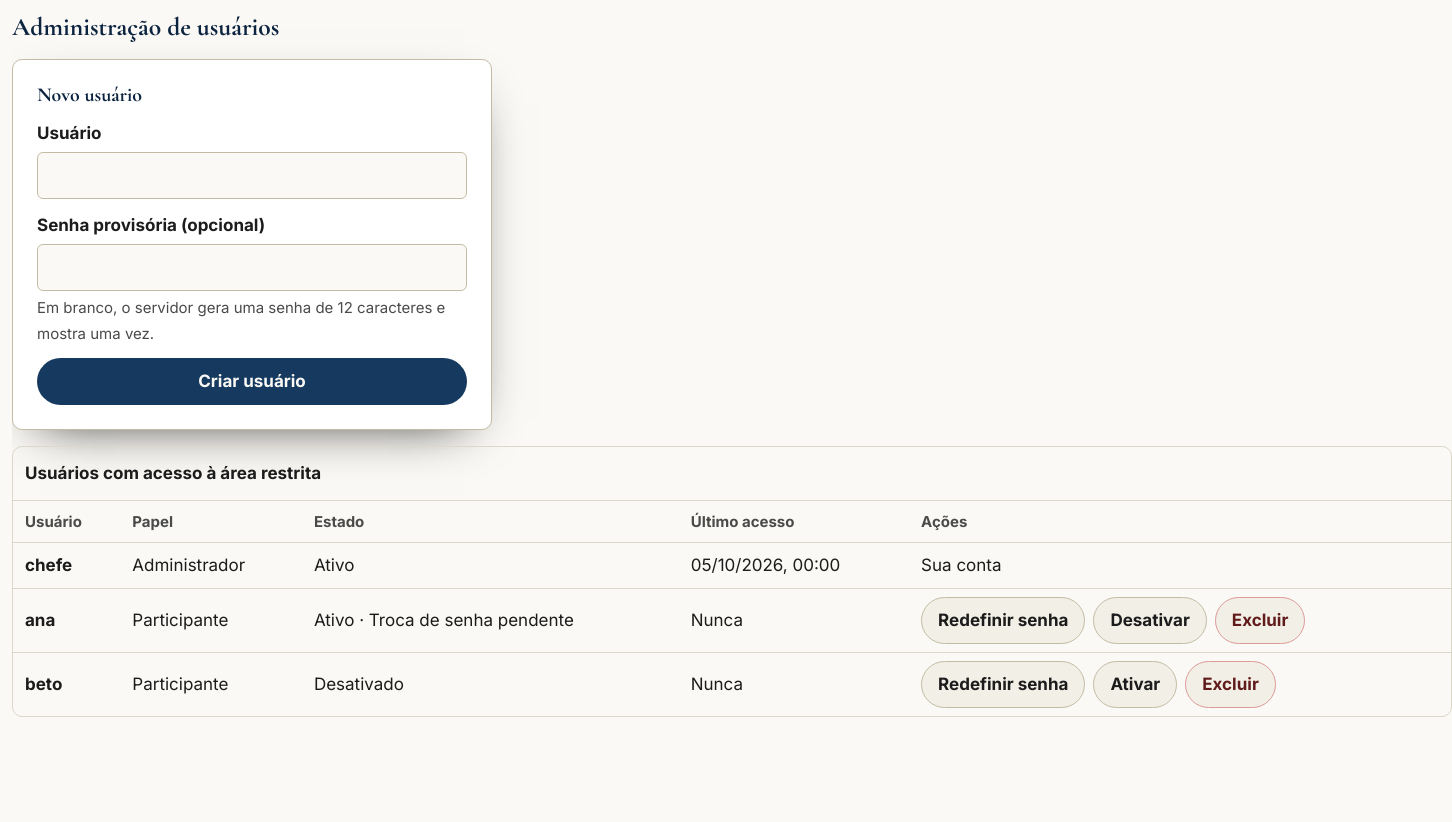
Test: PainelAdmin › cria usuário com senha provisória gerada e a mostra uma vez, com botão copiar
Type "carla" into the field named "novoUsuario" at (252, 176), box [37,152,467,199]
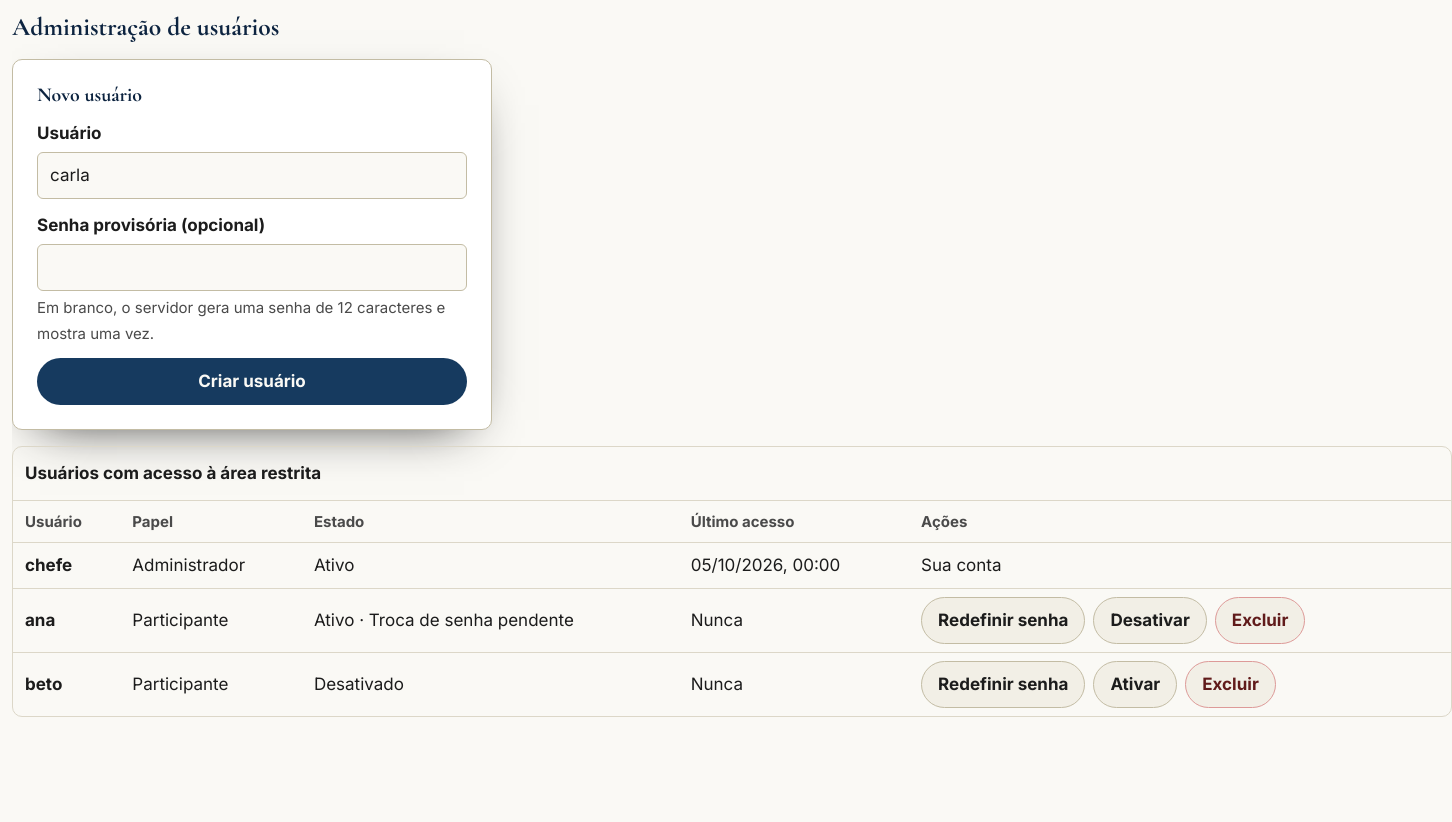
Submit the form with class "ar-admin__criar", box [12,59,492,430]
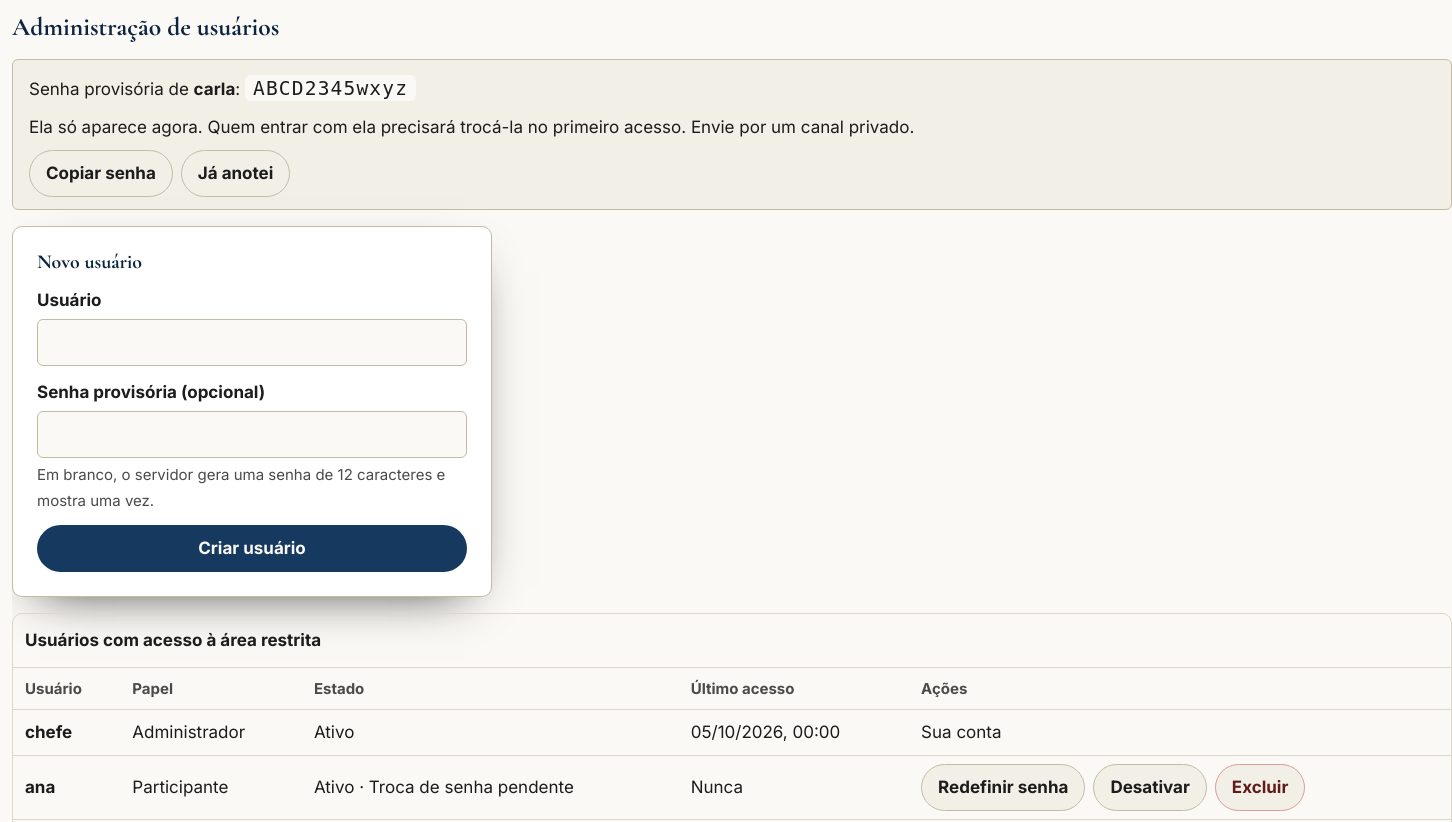
Check: the message with class "ar-admin__provisoria" shows "carla", box [194,79,235,99]
Check: the message with class "ar-admin__provisoria" shows "ABCD2345wxyz", box [253,77,408,100]
Check: the message with class "ar-admin__provisoria" shows "só aparece agora", box [29,117,914,137]
Click the button "Já anotei" at (236, 173), box [181,150,290,197]
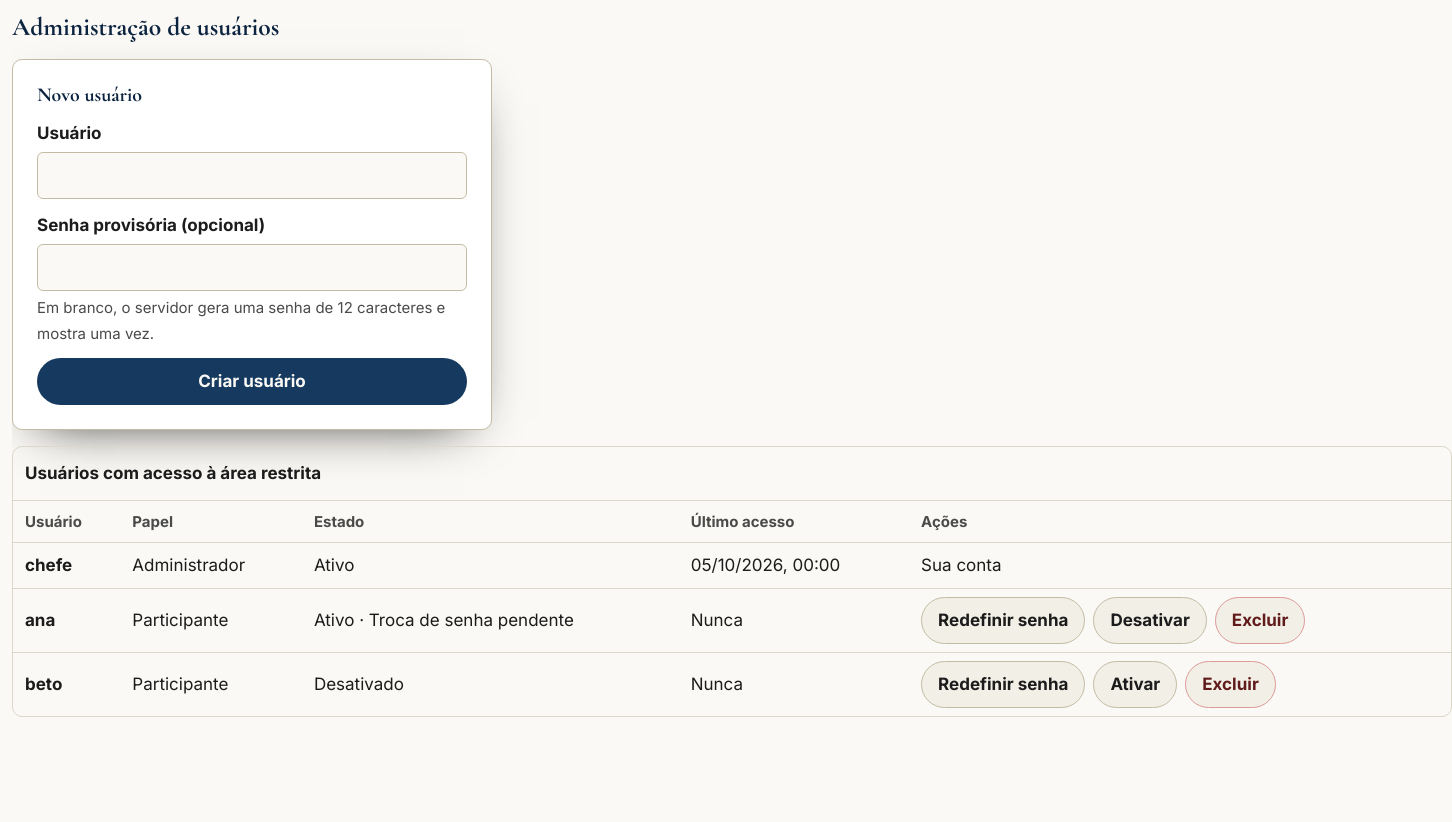
Check: the text "ABCD2345wxyz" is gone
